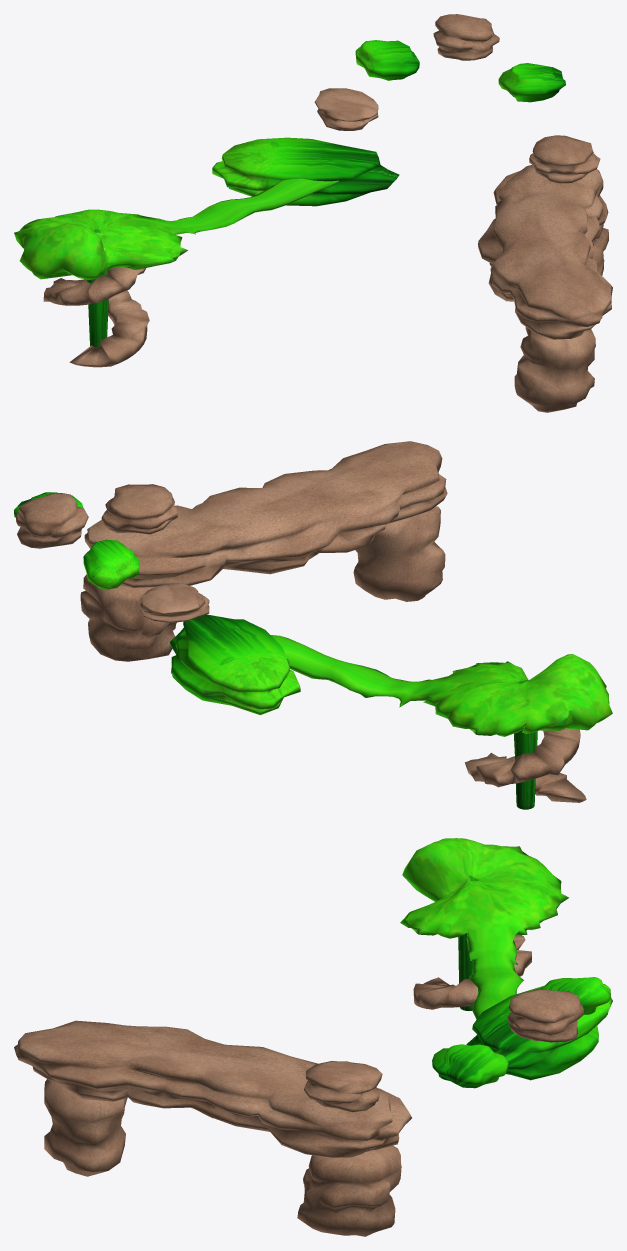
File: TerrainObject.fbx
The picture shows the model from 3 angles, top to bottom: view 1: azimuth 30°, elevation 25°; view 2: azimuth 150°, elevation 25°; view 3: azimuth 270°, elevation 25°; orthographic projection. The views are drawn at different scales.
Visible parts, largest first — view 1: rock_1, Cylinder001, rock_3, rock_2, SpiralStair001, rock_3.2, rock_7, rock_008, rock_5, rock_4; view 2: rock_1, Cylinder001, rock_3, rock_2, rock_6, SpiralStair001, rock_7, rock_3.2, rock_008, rock_5; view 3: rock_1, Cylinder001, rock_6, rock_2, rock_3, rock_7, rock_3.2, rock_4, SpiralStair001, rock_5.
Part boxes in pixels (<box>): rock_1: <box>478,164,612,339</box>; Cylinder001: <box>14,178,338,346</box>; rock_3: <box>212,137,399,206</box>; rock_2: <box>514,327,595,412</box>; SpiralStair001: <box>43,267,149,367</box>; rock_3.2: <box>529,135,600,183</box>; rock_7: <box>433,14,499,60</box>; rock_008: <box>314,88,378,130</box>; rock_5: <box>355,40,419,80</box>; rock_4: <box>498,63,565,102</box>; rock_1: <box>84,441,447,587</box>; Cylinder001: <box>271,635,612,809</box>; rock_3: <box>170,614,300,715</box>; rock_2: <box>353,506,445,601</box>; rock_6: <box>80,574,176,661</box>; SpiralStair001: <box>464,728,586,802</box>; rock_7: <box>15,493,88,548</box>; rock_3.2: <box>101,484,177,534</box>; rock_008: <box>140,583,209,622</box>; rock_5: <box>83,539,139,589</box>; rock_1: <box>14,1020,411,1157</box>; Cylinder001: <box>400,838,568,1019</box>; rock_6: <box>297,1145,401,1236</box>; rock_2: <box>44,1079,127,1176</box>; rock_3: <box>466,985,612,1080</box>; rock_7: <box>507,989,583,1042</box>; rock_3.2: <box>304,1061,382,1112</box>; rock_4: <box>432,1044,508,1088</box>; SpiralStair001: <box>413,935,531,1009</box>; rock_5: <box>540,977,610,1014</box>.
Bounding box in the file's own units: 1331 × 492 × 1154.
11 materials, 11 textured.
